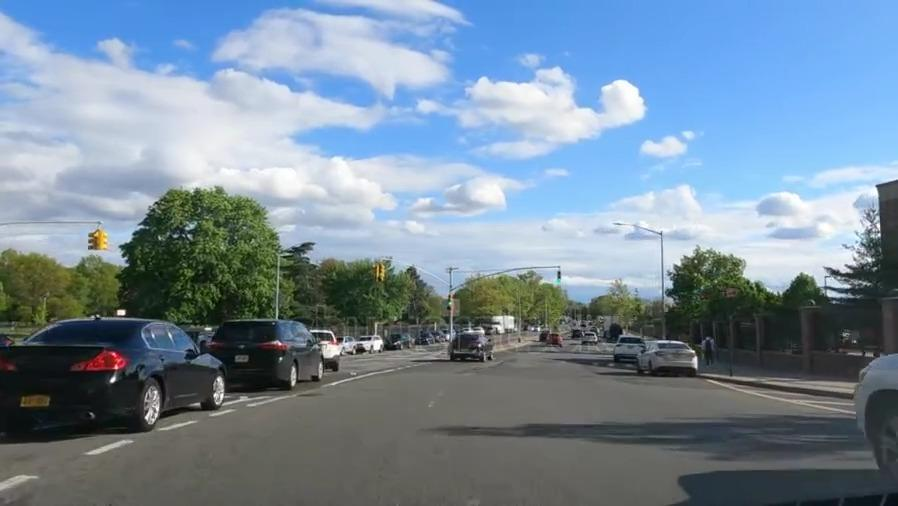car: (1, 322, 229, 423), (816, 346, 898, 474), (213, 315, 330, 391), (641, 337, 697, 378), (309, 323, 343, 371), (446, 335, 499, 363), (612, 335, 643, 360), (356, 335, 383, 355), (336, 334, 357, 355), (387, 333, 411, 351), (581, 331, 598, 345), (546, 333, 563, 347), (416, 332, 434, 345), (541, 329, 550, 340)
person: (701, 334, 715, 364)
traffic light: (365, 261, 391, 285), (89, 226, 109, 254), (554, 267, 564, 290), (445, 293, 455, 315)
wheel: (129, 375, 167, 425), (204, 367, 227, 409), (283, 359, 303, 390), (310, 356, 327, 383)
